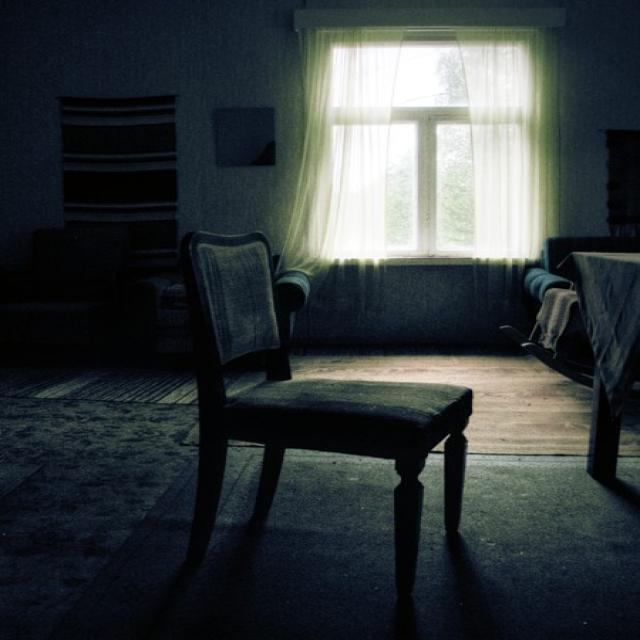Table: (551, 239, 640, 484)
chair: (171, 217, 487, 640)
